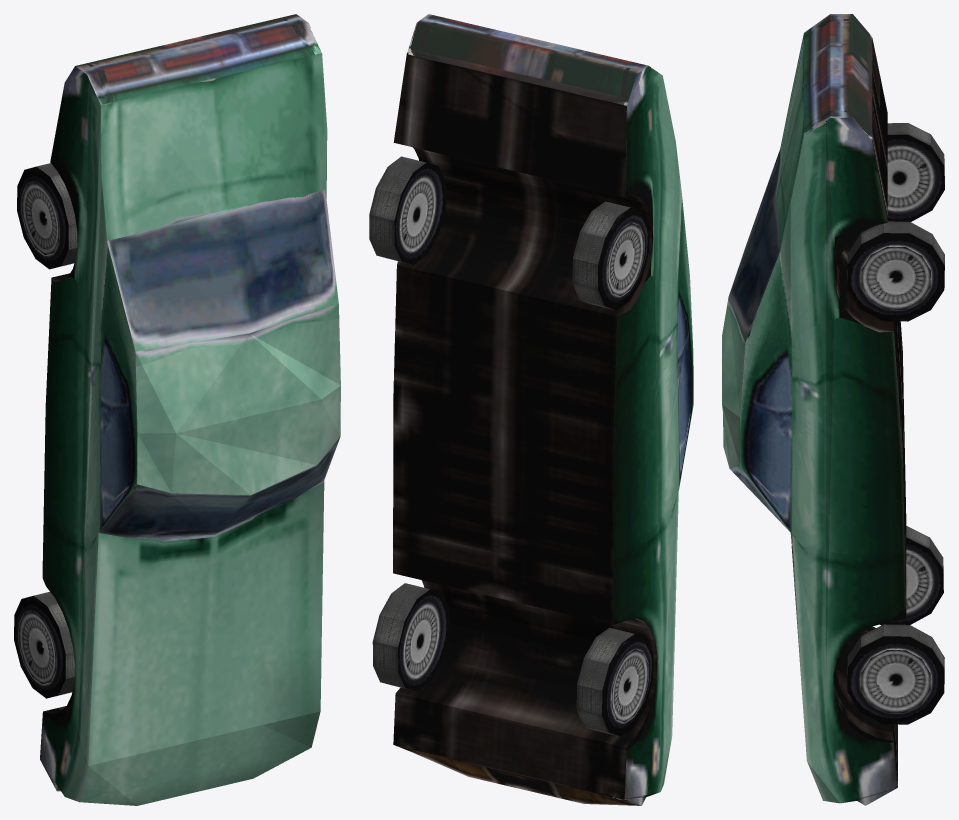
Rendered from carpack_green_wtf.obj.
3 renders of one model, left to right at view 1: azimuth 30°, elevation 25°; view 2: azimuth 150°, elevation 25°; view 3: azimuth 270°, elevation 25°, orthographic. The views are drawn at different scales.
Parts seen in each view (by area): view 1: group2; view 2: group2; view 3: group2.
Boxes of the visible parts, x1,y1,x2,y2 form: group2: (14,14,340,805); group2: (369,14,693,805); group2: (722,14,944,805).
Bounding box in the file's own units: 227 × 660 × 190.
